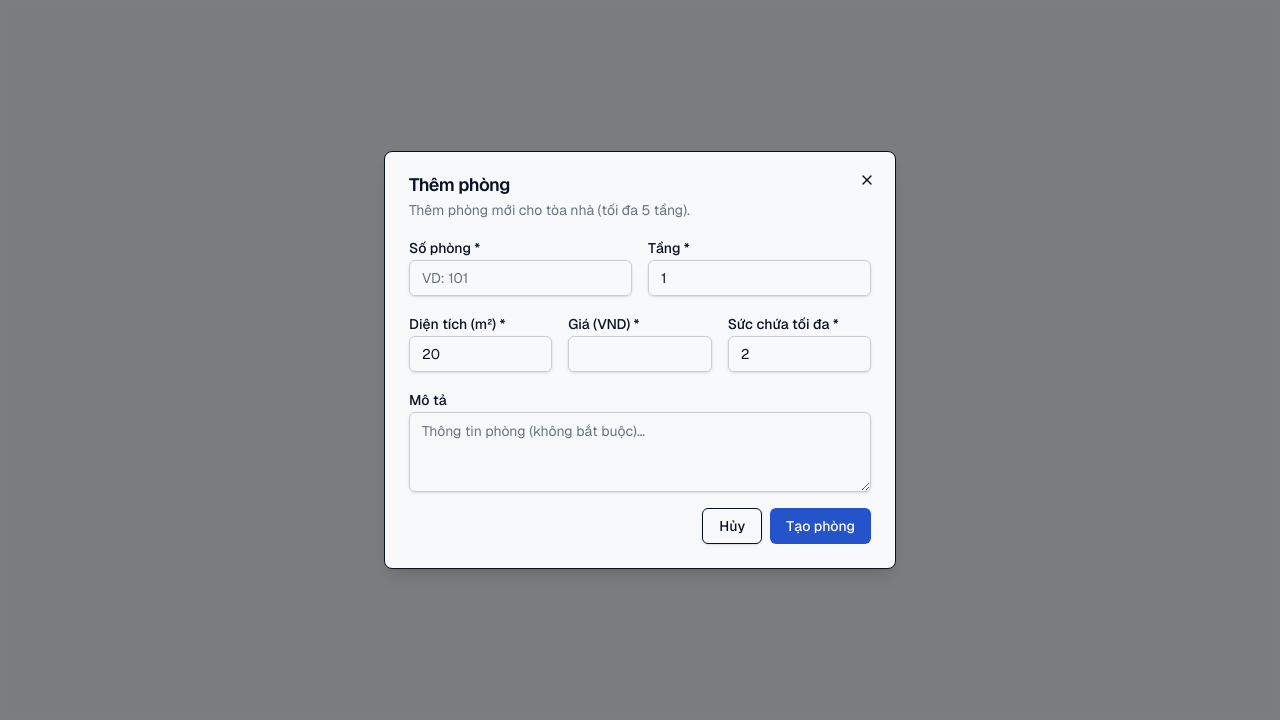
Test: RoomFormDialog › shows validation error when room number is empty
Clear the room number field and submit
Clear the field labelled "Số phòng *" at [520, 278], box [409,260,632,296]
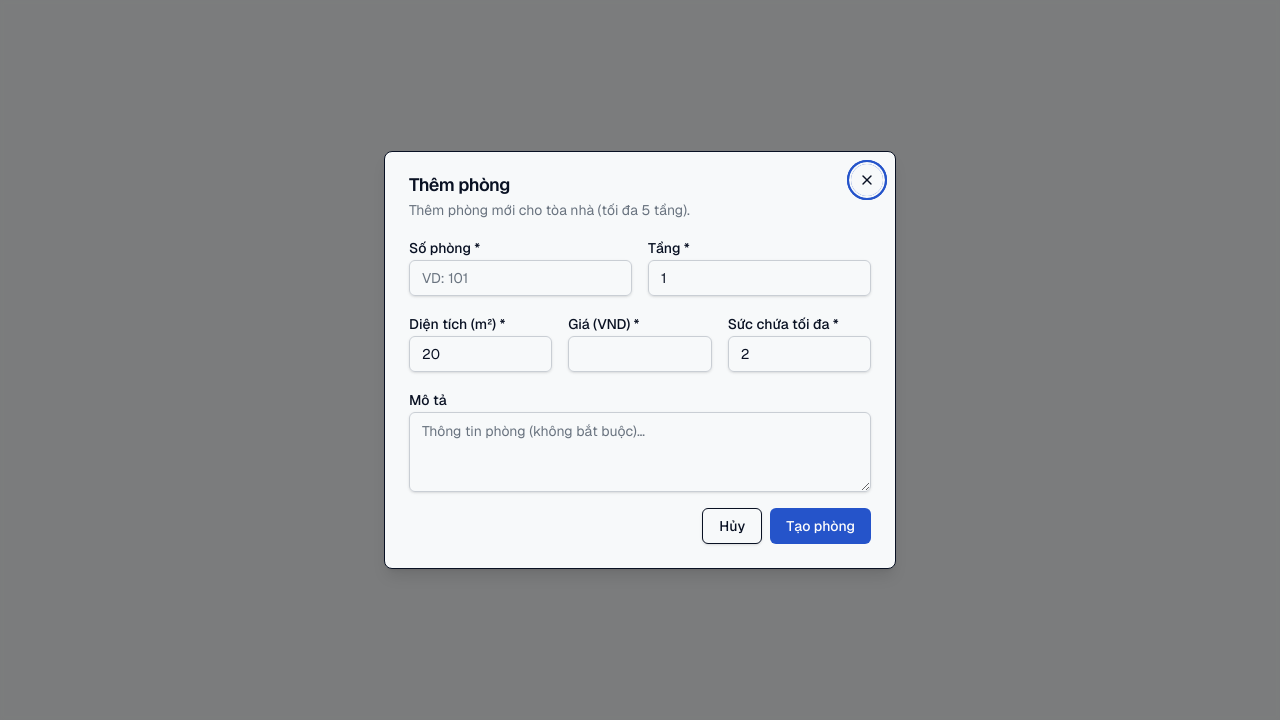
Click the button "Tạo phòng" at [821, 526], box [770,508,871,544]
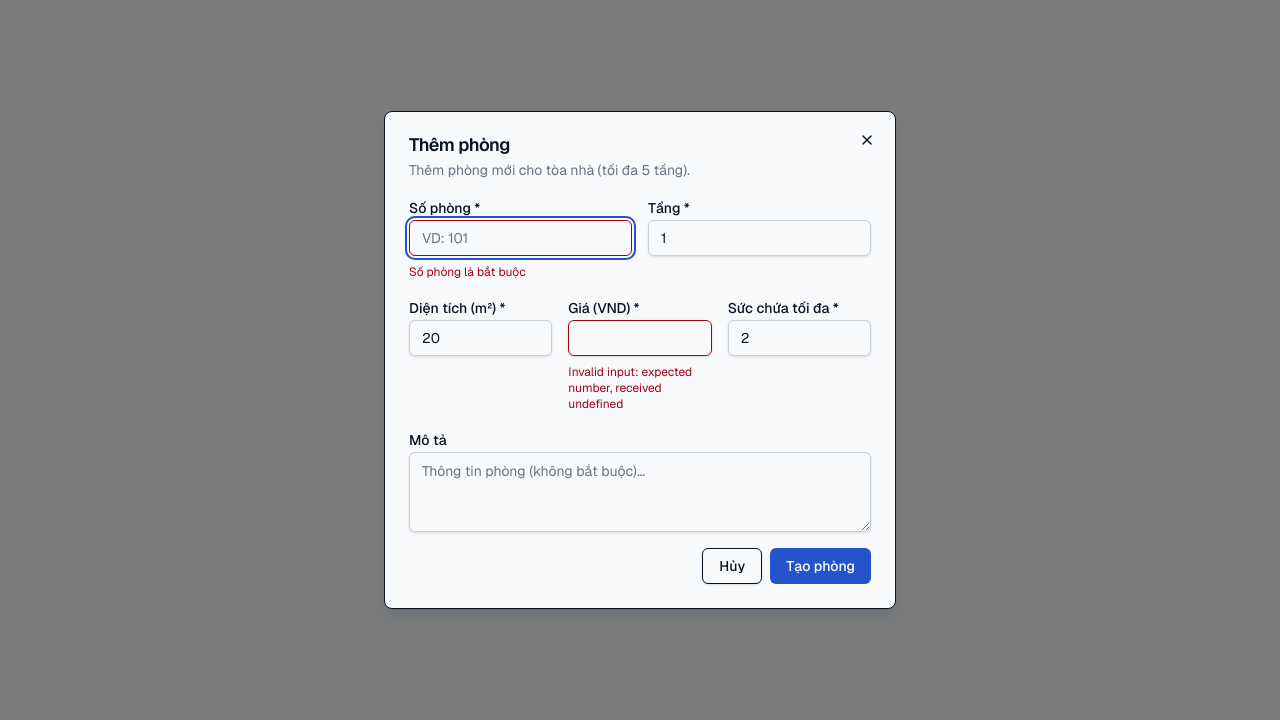
Result: the text "Số phòng là bắt buộc" is shown at [409,264,526,280]
